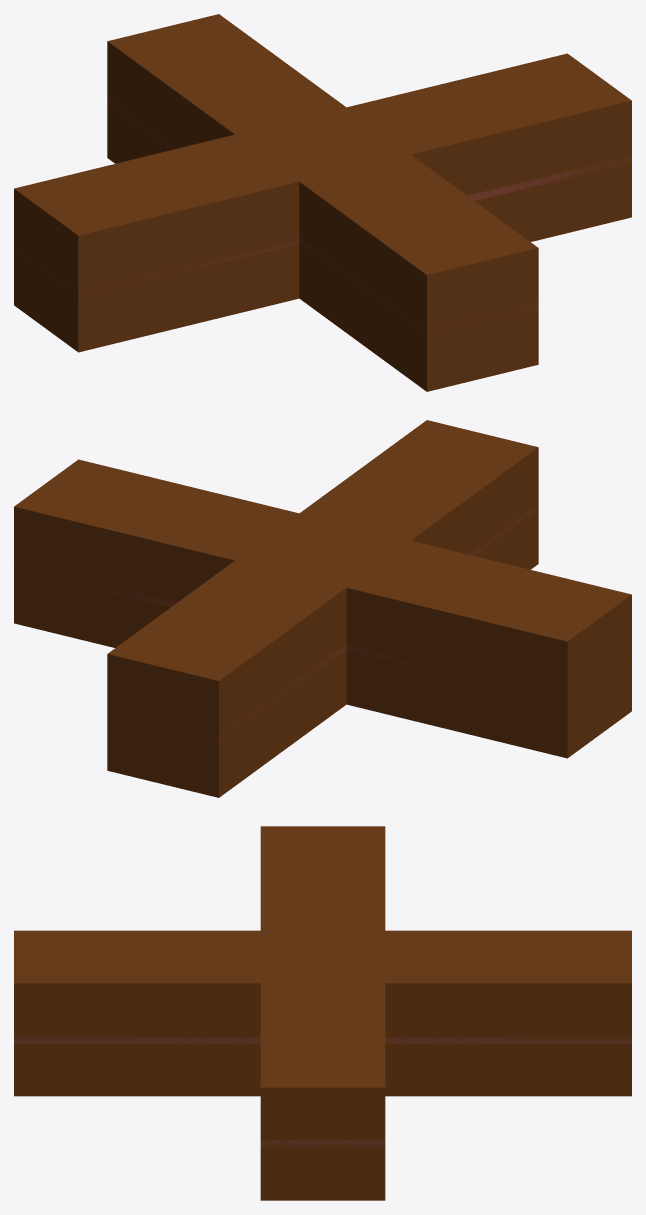
The model's file is signs.glb.
3 renders of one model, top to bottom at view 1: azimuth 30°, elevation 25°; view 2: azimuth 150°, elevation 25°; view 3: azimuth 270°, elevation 25°, orthographic. The views are drawn at different scales.
Parts seen in each view (by area): view 1: Cube, Cube.001, Cube.002; view 2: Cube, Cube.001, Cube.002; view 3: Cube, Cube.001, Cube.002.
Boxes of the visible parts, left/top/right/bottom form: Cube: left=14, top=14, right=631, bottom=391; Cube.001: left=109, top=15, right=536, bottom=274; Cube.002: left=14, top=97, right=631, bottom=335; Cube: left=14, top=420, right=631, bottom=797; Cube.001: left=109, top=421, right=536, bottom=680; Cube.002: left=14, top=503, right=631, bottom=742; Cube: left=14, top=826, right=631, bottom=1200; Cube.001: left=15, top=931, right=630, bottom=982; Cube.002: left=14, top=1036, right=631, bottom=1147.
Size of the model in its own units: 3.36 by 0.6785 by 3.36.
